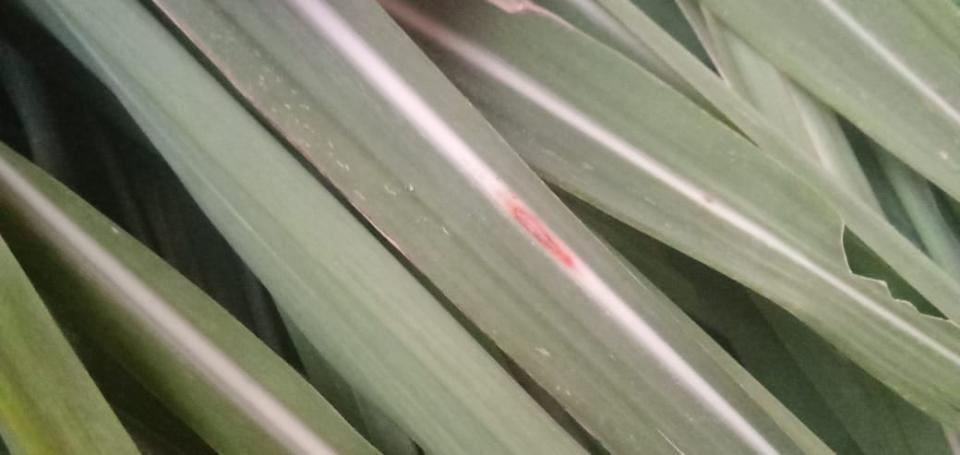RedRot: (494, 191, 576, 272)
